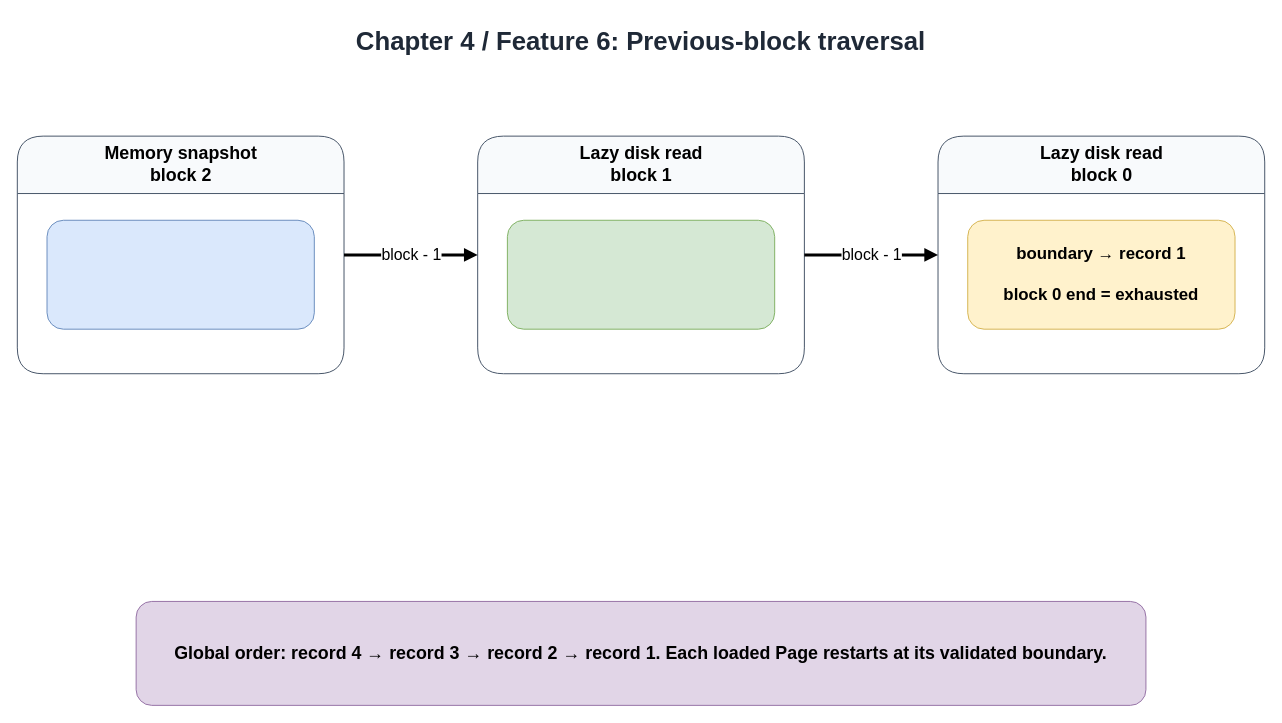
This 1282x723 diagram has some shape labels left out. The centre of each missing label's shape, as x and y in pixels:
"boundary → record 3 → record 2 then position = capacity" belongs at point (640, 274).
"boundary → record 4 then position = capacity" belongs at point (180, 274).
